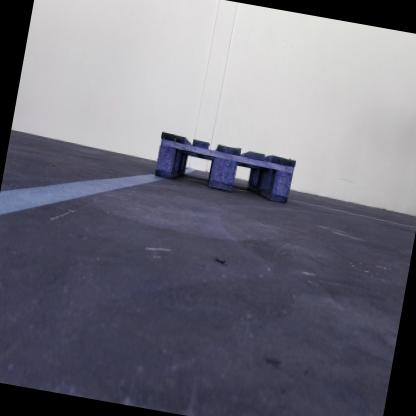BoxFace: (151, 127, 296, 204)
